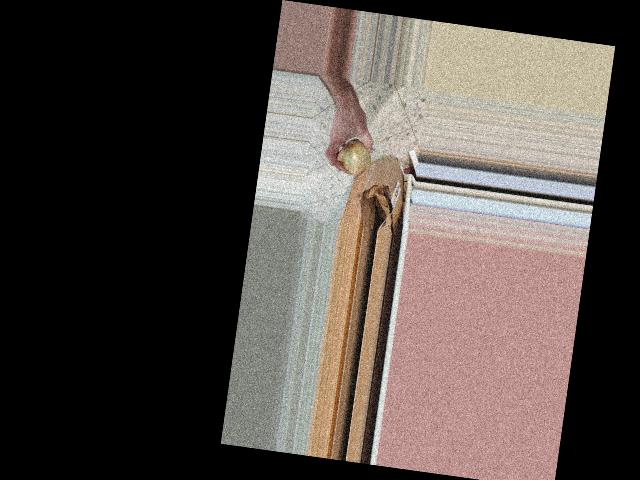onion: (332, 134, 373, 184)
